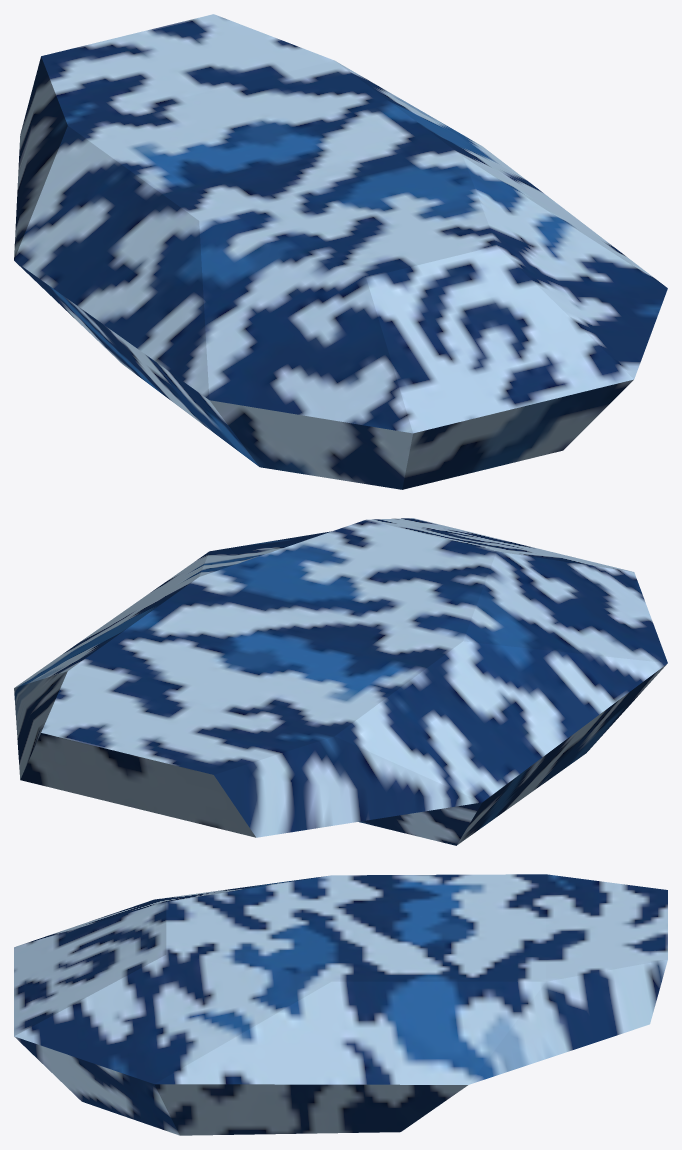
The model's file is MBT_Turret.fbx.
The picture shows the model from 3 angles, top to bottom: view 1: azimuth 30°, elevation 25°; view 2: azimuth 150°, elevation 25°; view 3: azimuth 270°, elevation 25°; orthographic projection. The views are drawn at different scales.
Parts seen in each view (by area): view 1: Cube; view 2: Cube; view 3: Cube.
Boxes of the visible parts, x1,y1,x2,y2 form: Cube: (14,14,667,489); Cube: (14,518,667,845); Cube: (14,874,667,1135).
Size of the model in its own units: 0.9286 by 0.3329 by 1.36.
1 material, 1 textured.
